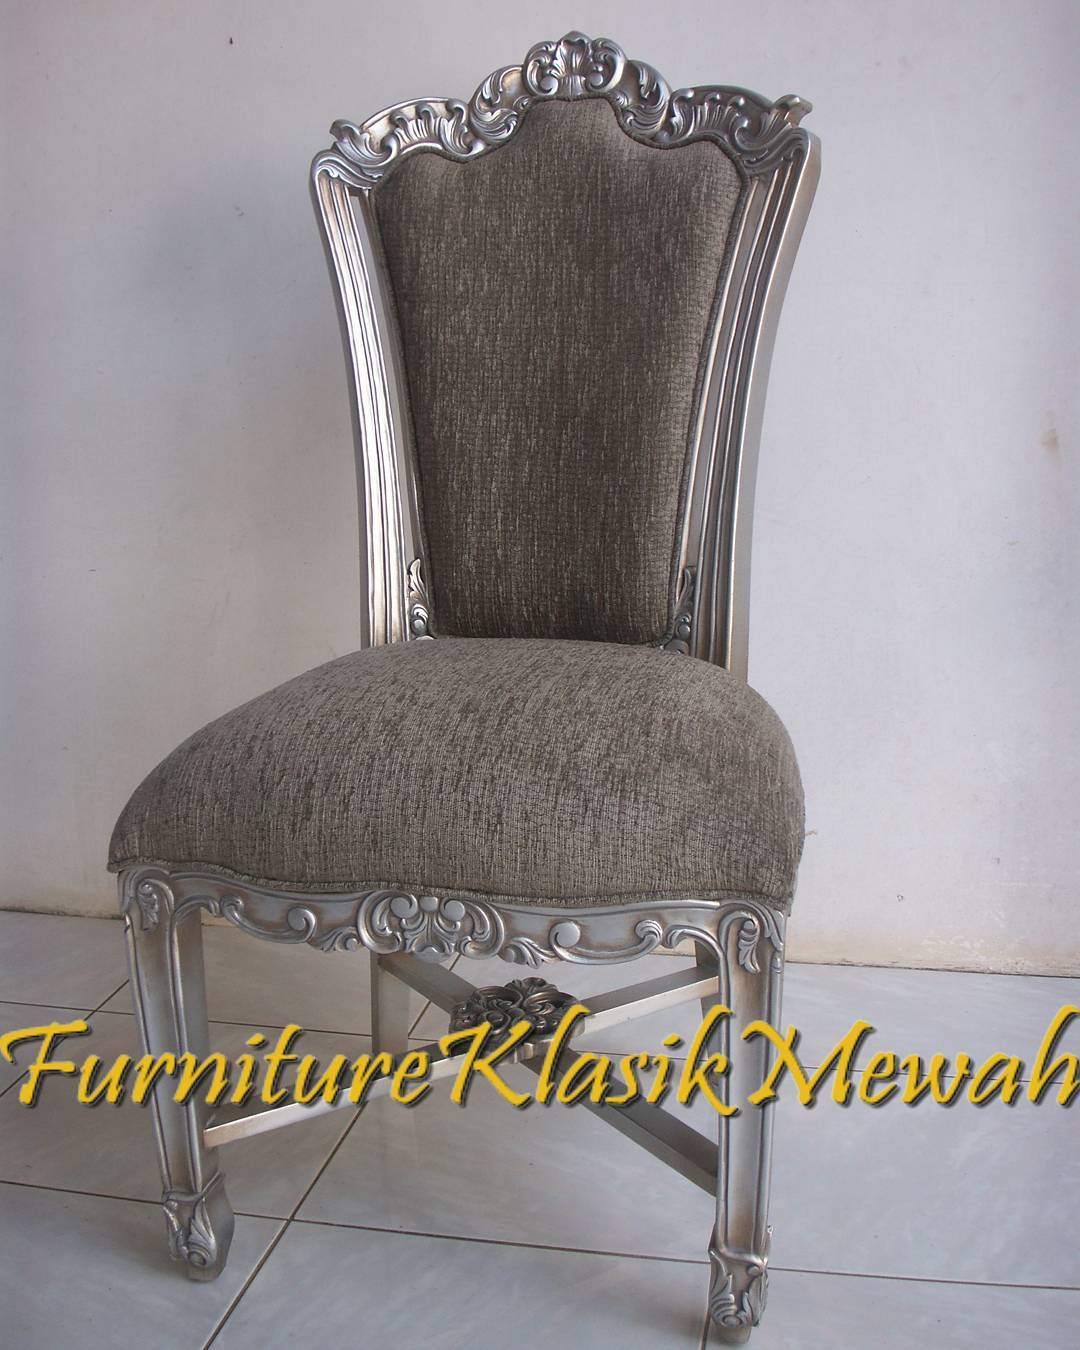Carving Chair: (104, 99, 876, 1305)
